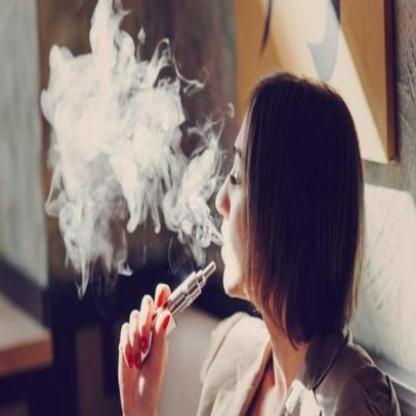person: (192, 80, 393, 415)
smoke: (39, 0, 172, 294), (163, 119, 224, 255)
